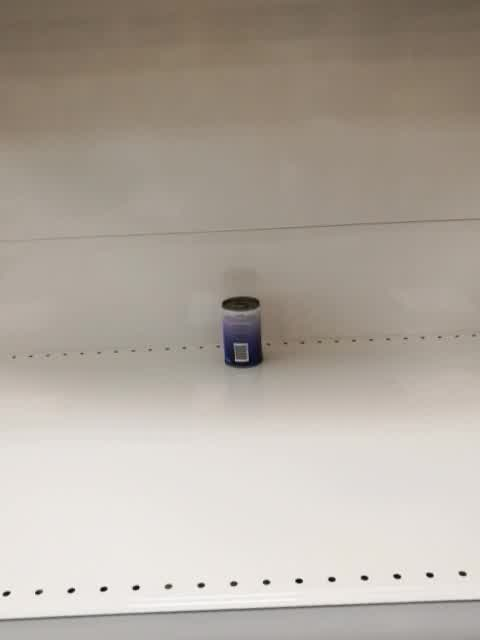sardine: (219, 296, 265, 370)
